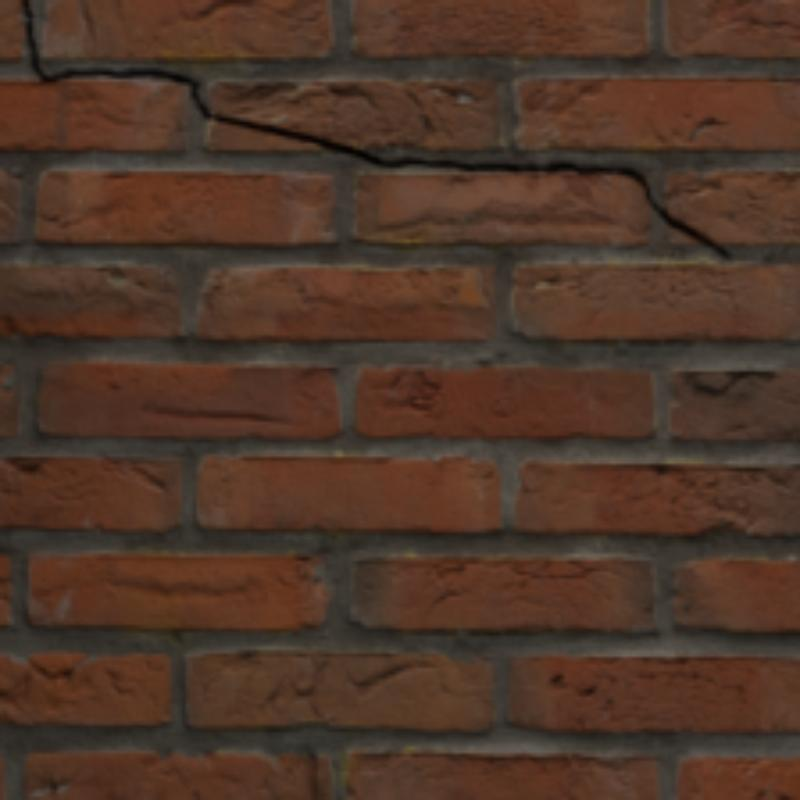pothole: (21, 0, 729, 257)
